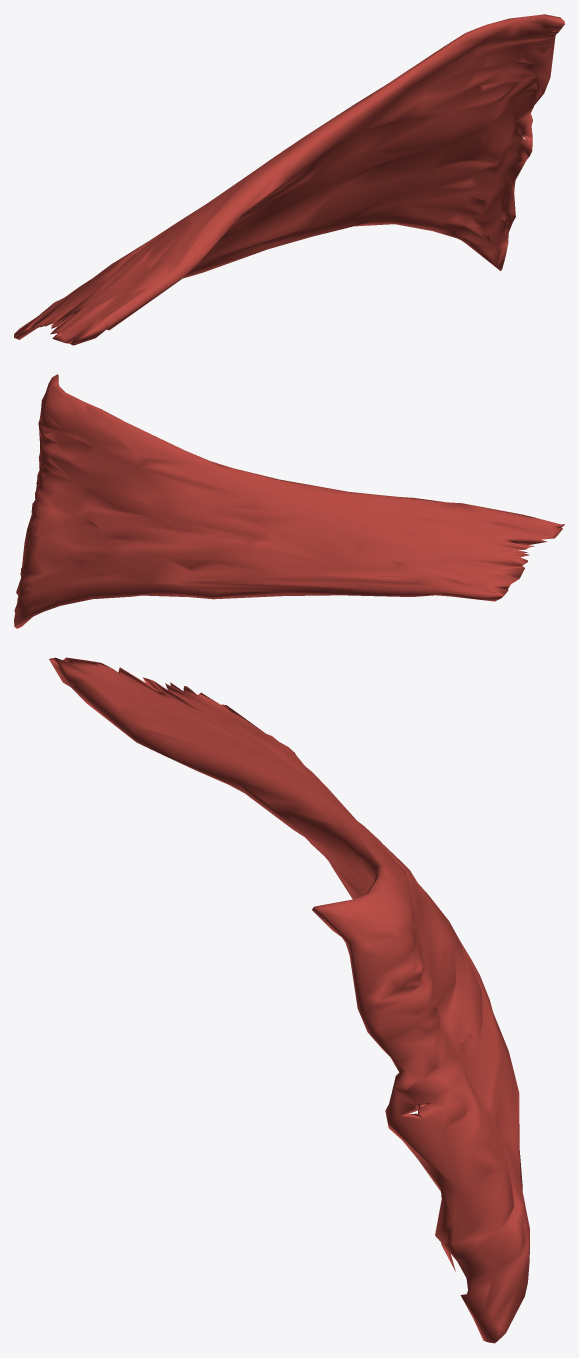
The model's file is musculos-transverse-part-of-trapezius-muscle-r.glb.
3 views of the same model, one above another, from view 1: azimuth 30°, elevation 25°; view 2: azimuth 150°, elevation 25°; view 3: azimuth 270°, elevation 25° (orthographic). The views are drawn at different scales.
Visible parts, largest first — view 1: Transverse part of trapezius muscle.r; view 2: Transverse part of trapezius muscle.r; view 3: Transverse part of trapezius muscle.r.
Boxes of the visible parts, x1,y1,x2,y2 form: Transverse part of trapezius muscle.r: [14, 14, 564, 345]; Transverse part of trapezius muscle.r: [14, 374, 564, 628]; Transverse part of trapezius muscle.r: [49, 657, 529, 1343].
Size of the model in its own units: 0.1723 by 0.081 by 0.0801.
